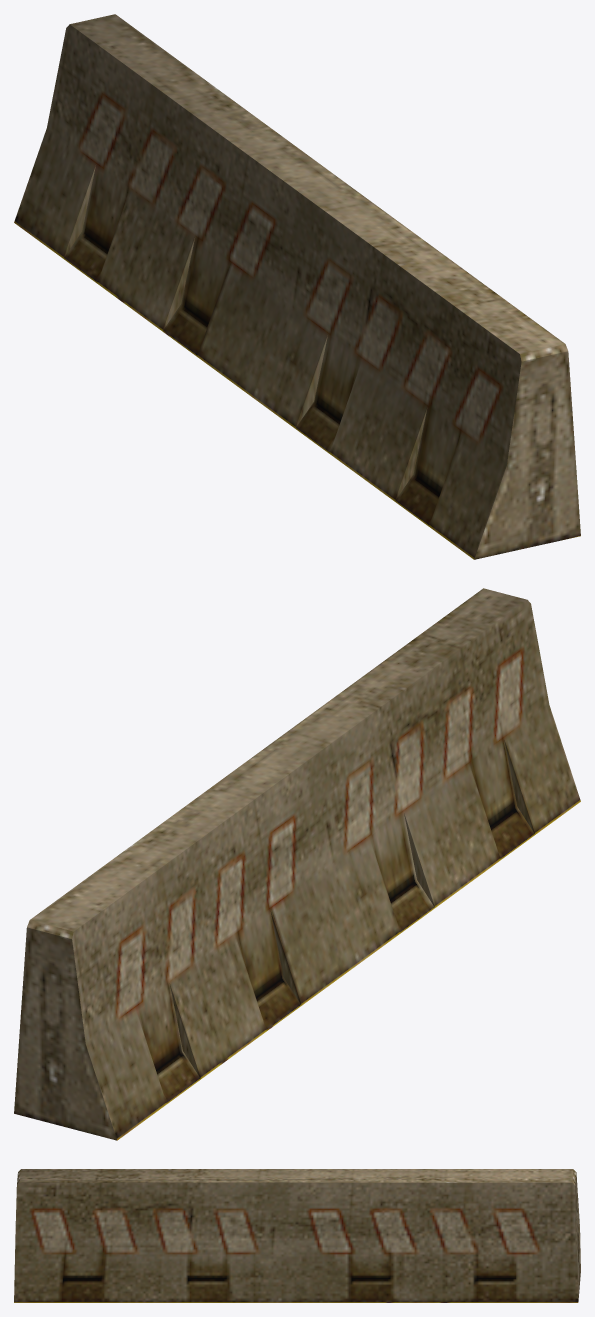
File: RailB.FBX
3 views of the same model, one above another, from view 1: azimuth 30°, elevation 25°; view 2: azimuth 150°, elevation 25°; view 3: azimuth 270°, elevation 25° (orthographic). The views are drawn at different scales.
Visible parts, largest first — view 1: RailB; view 2: RailB; view 3: RailB.
Boxes of the visible parts, bbox=[...] form: RailB: bbox=[14, 14, 580, 559]; RailB: bbox=[14, 588, 580, 1140]; RailB: bbox=[14, 1169, 580, 1302].
Size of the model in its own units: 34.86 by 266 by 60.75.
